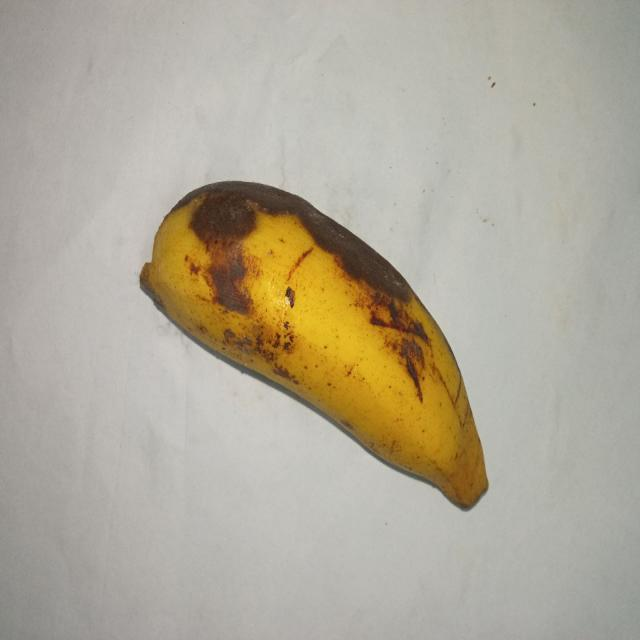rotten_banana: (139, 175, 485, 509)
